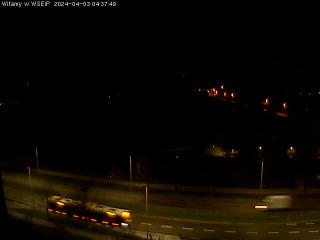bus: (45, 194, 132, 230)
car: (254, 195, 294, 212)
